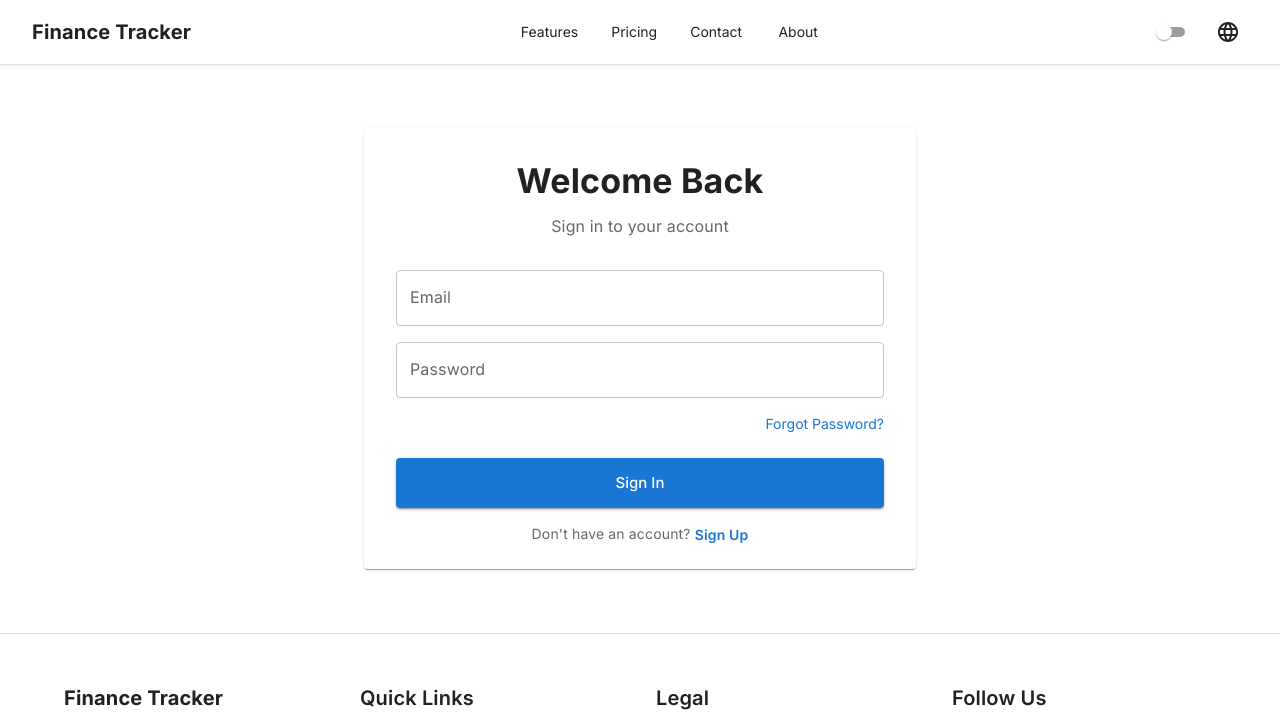
it: LoginPage › should show validation error for empty email
Click the button "Sign In" at x=640, y=483, box [396,458,884,508]
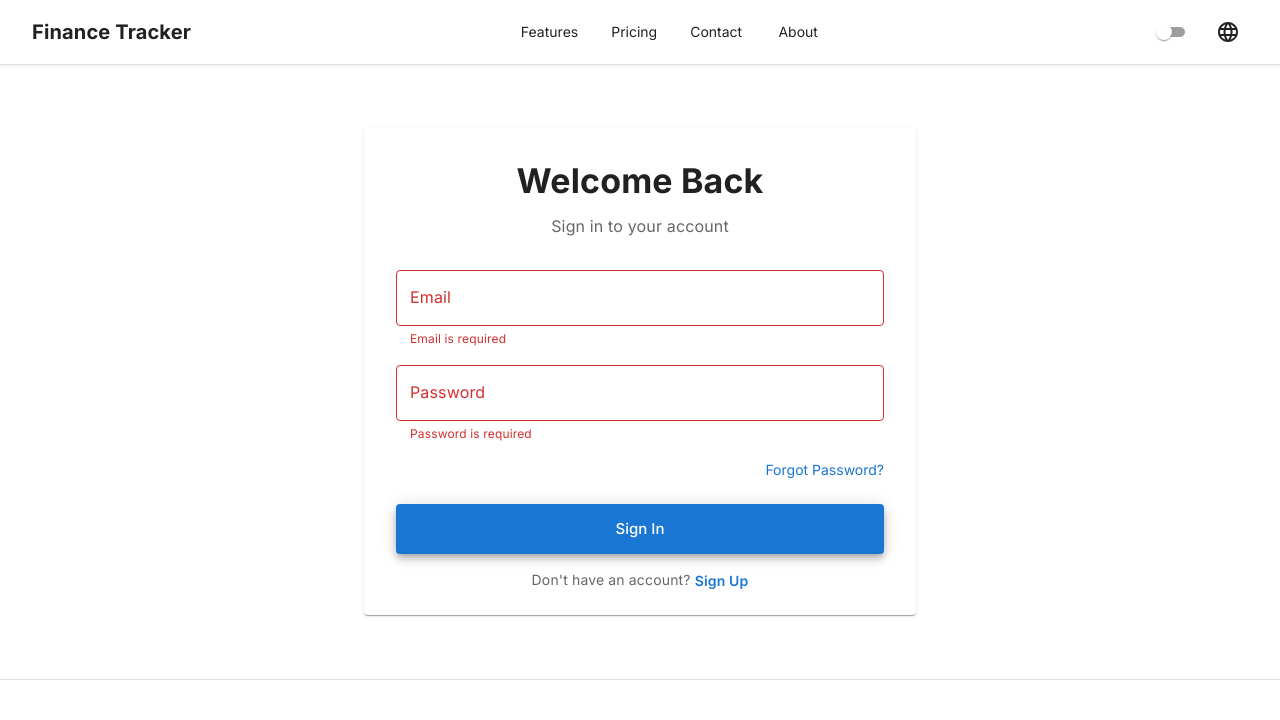
Expected: the text "Email is required" is shown, [410,331,506,346]
